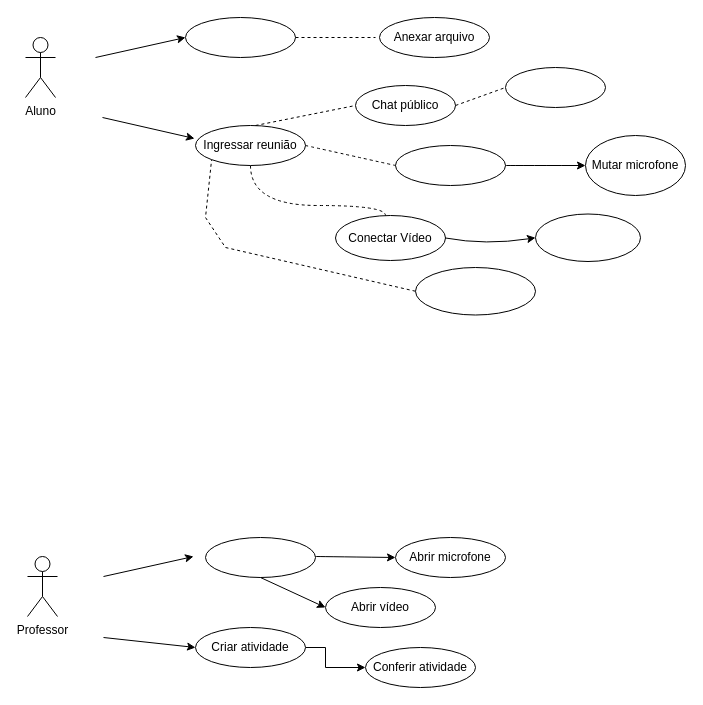
This 703x705 diagram has some shape labels left out. The box of each missing label's shape, as (x1, y1, x2, y2) in pixels:
Conectar microfone: (394, 144, 506, 186)
Criar reunião: (204, 536, 316, 578)
Desligar vídeo: (534, 213, 640, 262)
Mandar mensagem: (504, 66, 606, 108)
Postar solução: (184, 16, 296, 58)
Solicitar transmisão de tela: (414, 266, 536, 315)
